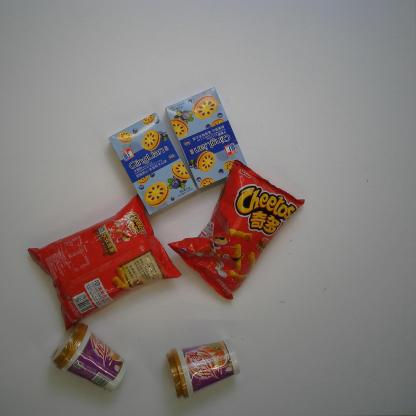Dessert: (108, 112, 196, 216), (164, 87, 249, 189)
Instant Drink: (51, 321, 128, 392), (165, 338, 241, 399)
Puffed Food: (27, 193, 183, 331), (167, 159, 305, 300)
